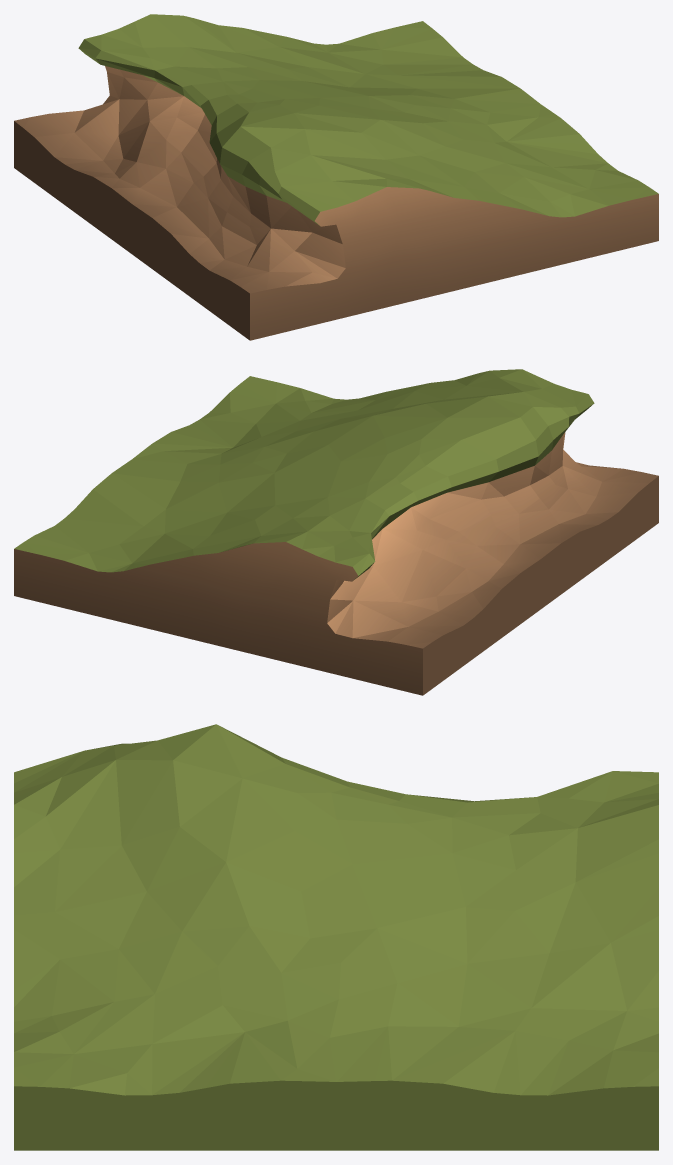
File: Terrian_Cliff_Hill_Straight-02.fbx
3 renders of one model, top to bottom at view 1: azimuth 30°, elevation 25°; view 2: azimuth 150°, elevation 25°; view 3: azimuth 270°, elevation 25°, orthographic. The views are drawn at different scales.
Visible parts, largest first — view 1: Terrian_CliffGrass_Hill_Straight-02; view 2: Terrian_CliffGrass_Hill_Straight-02; view 3: Terrian_CliffGrass_Hill_Straight-02.
Boxes of the visible parts, x1,y1,x2,y2 form: Terrian_CliffGrass_Hill_Straight-02: [14, 14, 658, 340]; Terrian_CliffGrass_Hill_Straight-02: [14, 369, 658, 695]; Terrian_CliffGrass_Hill_Straight-02: [14, 724, 658, 1150].
Size of the model in its own units: 3600 by 1213 by 3600.
Materials: 1 (1 with a texture image).
